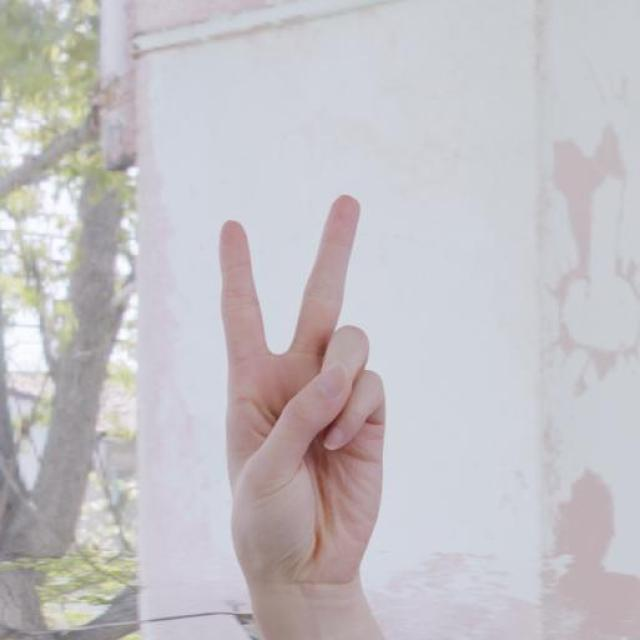V: (212, 194, 391, 587)
